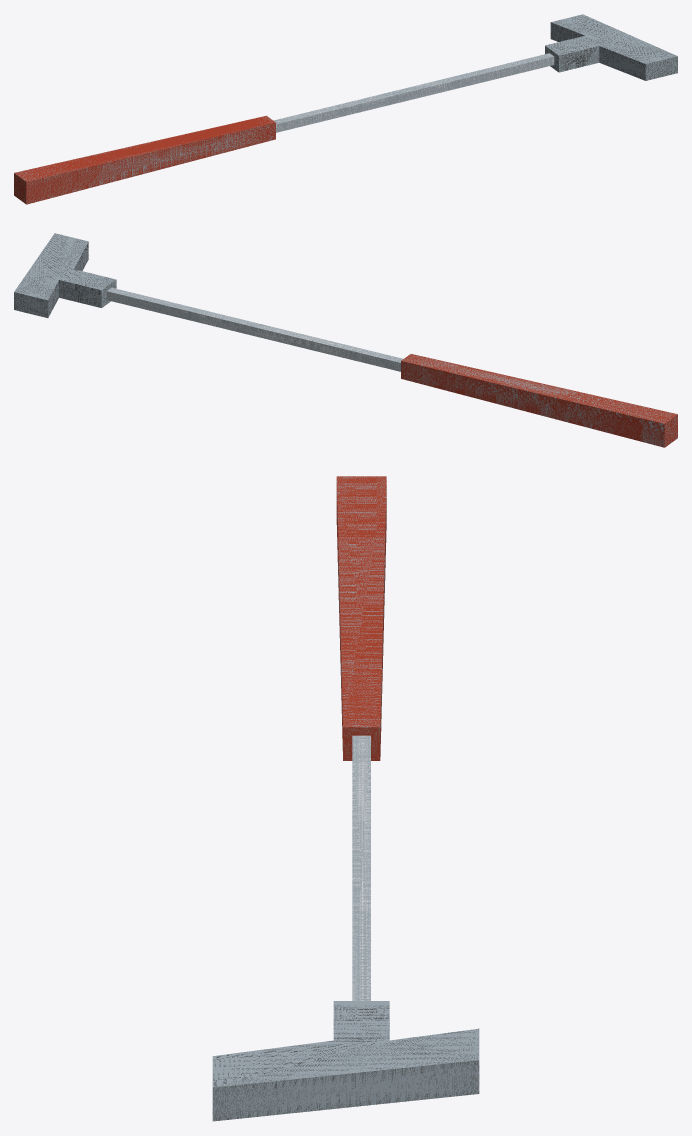
The model's file is Club_red_01.obj.
3 views of the same model, one above another, from view 1: azimuth 30°, elevation 25°; view 2: azimuth 150°, elevation 25°; view 3: azimuth 270°, elevation 25° (orthographic). The views are drawn at different scales.
Parts seen in each view (by area): view 1: Mesh1 Club_red Model; view 2: Mesh1 Club_red Model; view 3: Mesh1 Club_red Model.
Boxes of the visible parts, bbox=[...] form: Mesh1 Club_red Model: bbox=[14, 14, 677, 204]; Mesh1 Club_red Model: bbox=[14, 233, 677, 447]; Mesh1 Club_red Model: bbox=[212, 476, 479, 1121].
Bounding box in the file's own units: 2.75 × 0.0959 × 0.5124.
